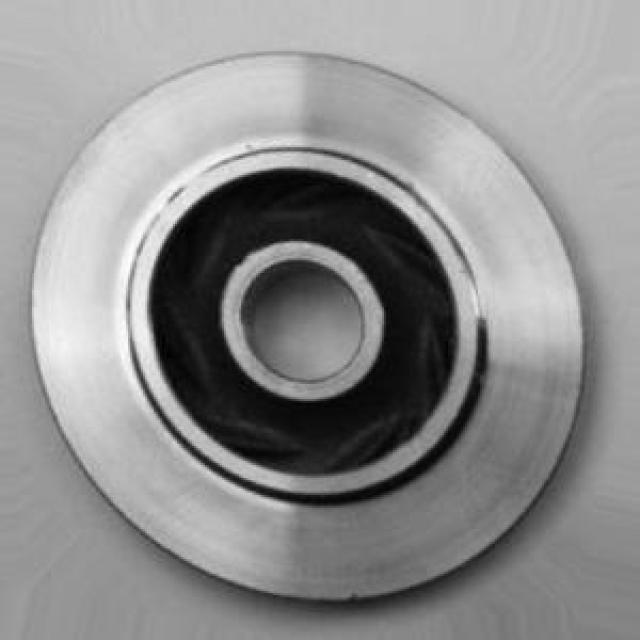Defect: (340, 584, 367, 612)
